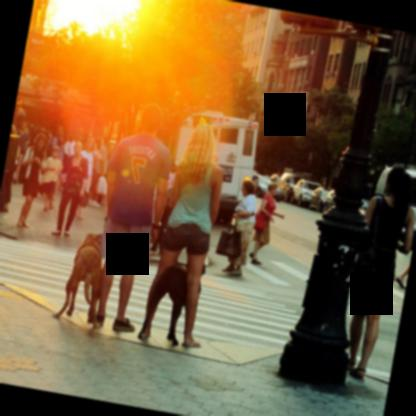handbag: (350, 195, 381, 286), (215, 218, 244, 257), (253, 214, 267, 233), (78, 187, 89, 208), (17, 164, 27, 184)
